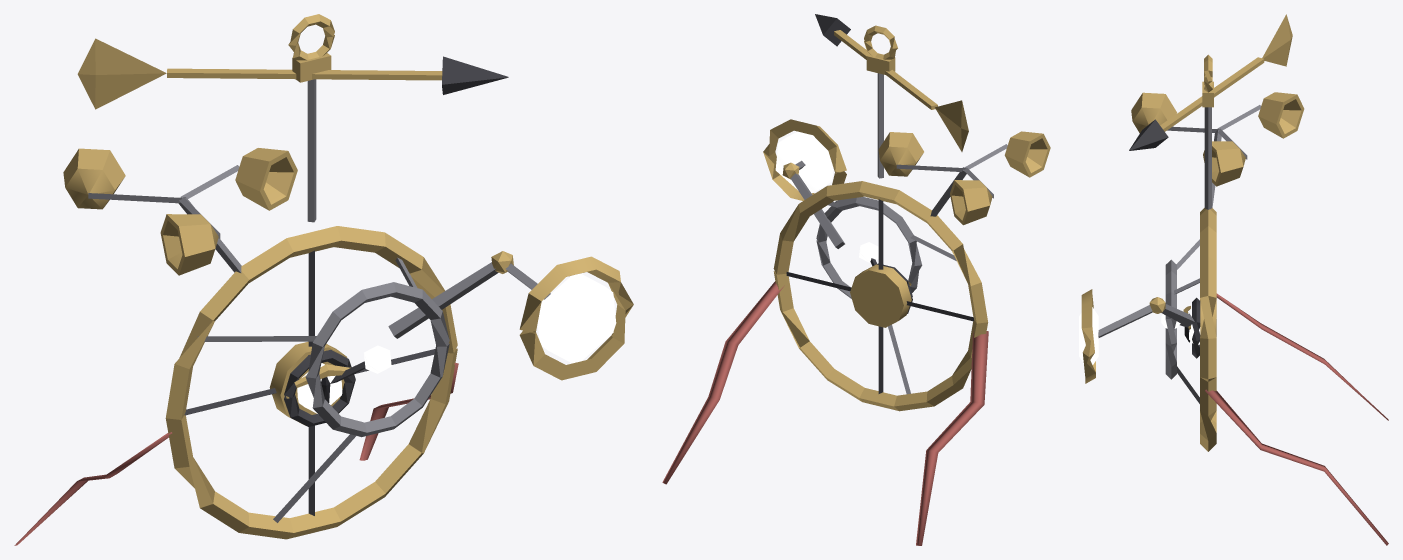
File: astrolabe-windage.glb
The picture shows the model from 3 angles, left to right: view 1: azimuth 30°, elevation 25°; view 2: azimuth 150°, elevation 25°; view 3: azimuth 270°, elevation 25°; orthographic projection. The views are drawn at different scales.
Parts seen in each view (by area): view 1: astrolabe_windage; view 2: astrolabe_windage; view 3: astrolabe_windage.
Part boxes in pixels (x1,y1,x2,y2): astrolabe_windage: (14, 14, 633, 545); astrolabe_windage: (662, 14, 1050, 545); astrolabe_windage: (1079, 14, 1388, 545).
Size of the model in its own units: 0.6375 by 0.7992 by 0.5273.
